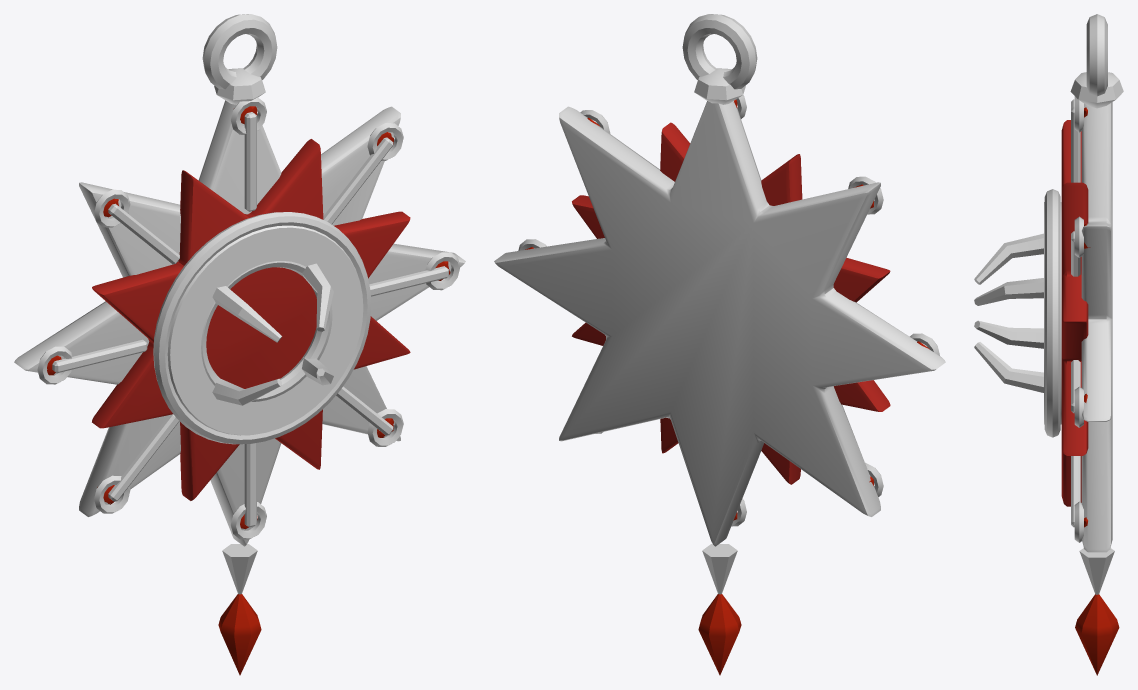
The model's file is relic2_Sigil.fbx.
The picture shows the model from 3 angles, left to right: view 1: azimuth 30°, elevation 25°; view 2: azimuth 150°, elevation 25°; view 3: azimuth 270°, elevation 25°; orthographic projection.
Parts seen in each view (by area): view 1: R2Sigil; view 2: R2Sigil; view 3: R2Sigil.
Boxes of the visible parts, x1,y1,x2,y2 form: R2Sigil: (14, 14, 465, 675); R2Sigil: (494, 14, 945, 675); R2Sigil: (974, 14, 1123, 675).
Bounding box in the file's own units: 1.14 × 1.63 × 0.3368.
